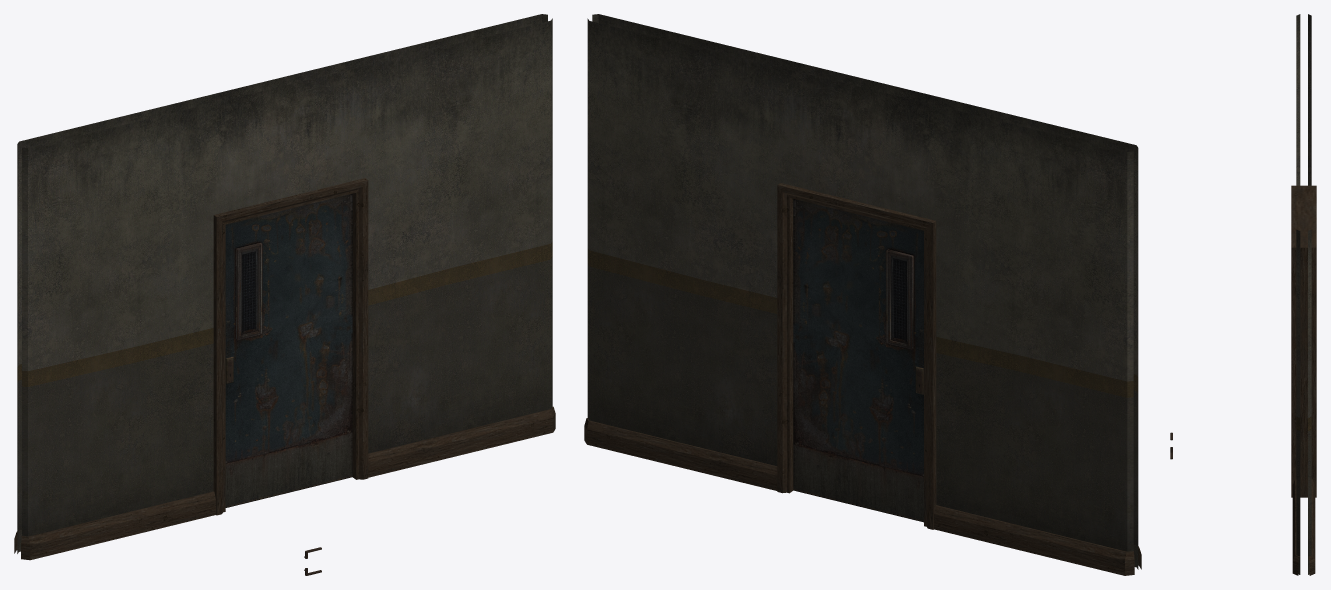
The model's file is doorway_1_1.fbx.
3 renders of one model, left to right at view 1: azimuth 30°, elevation 25°; view 2: azimuth 150°, elevation 25°; view 3: azimuth 270°, elevation 25°, orthographic. The views are drawn at different scales.
Parts seen in each view (by area): view 1: doorway_1_1, door_3; view 2: doorway_1_1, door_3; view 3: doorway_1_1.
Boxes of the visible parts, box(x1,y1,x2,y2) form: doorway_1_1: box(14, 14, 555, 560); door_3: box(225, 193, 352, 507); doorway_1_1: box(584, 14, 1141, 575); door_3: box(793, 199, 923, 522); doorway_1_1: box(1291, 14, 1316, 575).
Bounding box in the file's own units: 4.09 × 3.09 × 1.16.
